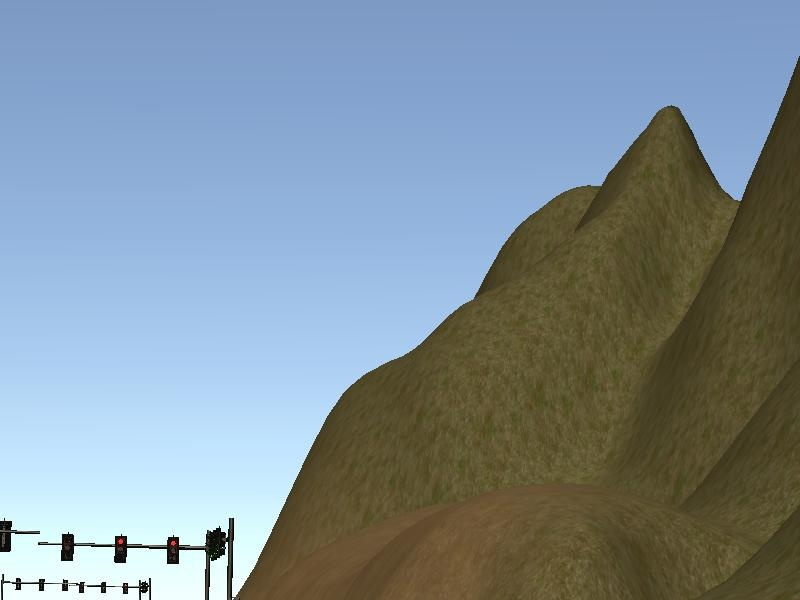traffic_light_red: (46, 531, 209, 565)
